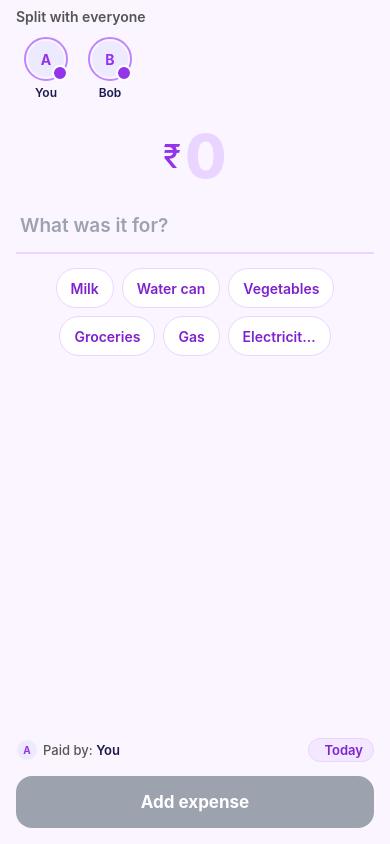
Test: AddGroceryScreen split with › shows the per-person amount for the selected people
Expected: the text "Split with everyone" is shown, [16,8,146,25]
In the field with test id "amount-input-ADD EXPENSE": (206, 156) [185,120,227,192], type "100"
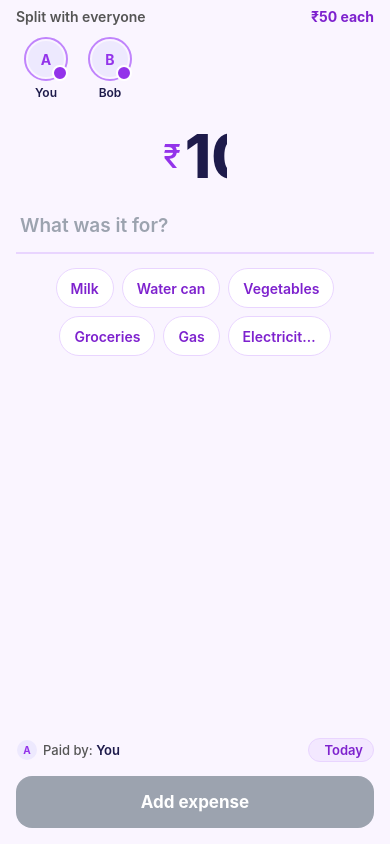
Expected: the text "₹50 each" is shown, [311,8,374,25]
Click the checkbox labelled "Bob": (110, 68) [88,37,132,100]
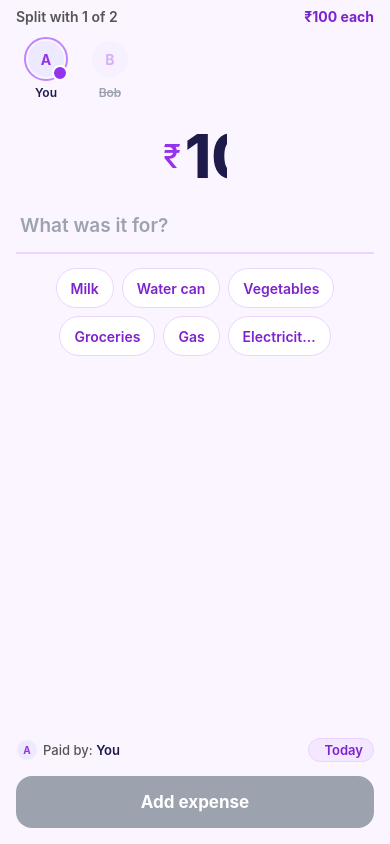
Expected: the text "₹100 each" is shown, [304,8,374,25]
